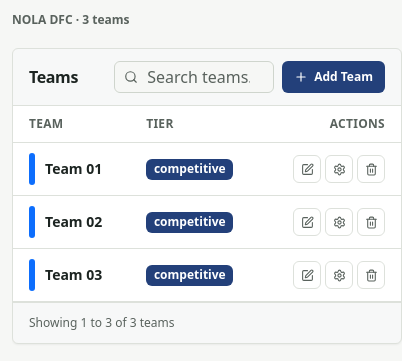
TeamList › filters by search
Type "Team 02" into the search field labelled "Search teams...".
click(194, 77); type("Team 02")  # box [114,61,274,93]
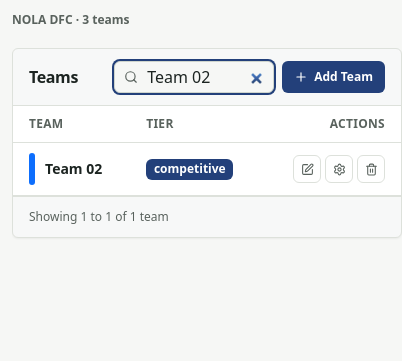
Check: the text "Showing 1 to 1 of 1 team" is shown, box [29,209,169,225]
